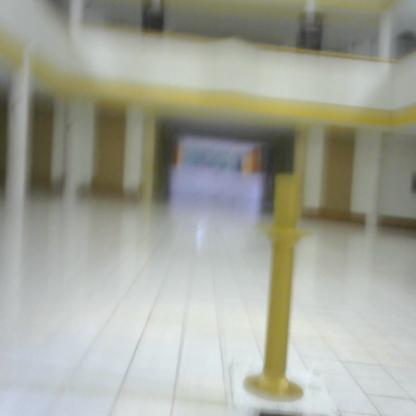pole: (237, 156, 331, 416)
